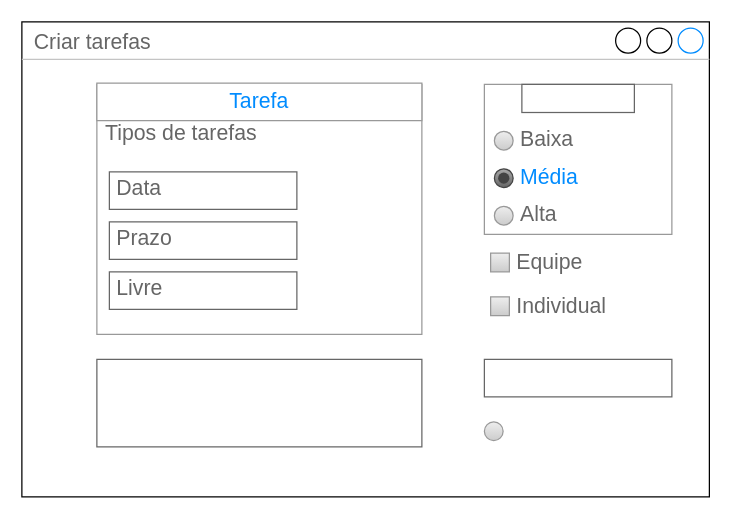
This 731x519 diagram has some shape labels left out. The shapes that lost their labels are listed below. From the top down, each one's centre as x and y in pixels, then its label:
At point 577,97: "Prioridade".
At point 577,377: "Status".
At point 259,402: "Descrição".
At point 493,431: "Criar".
